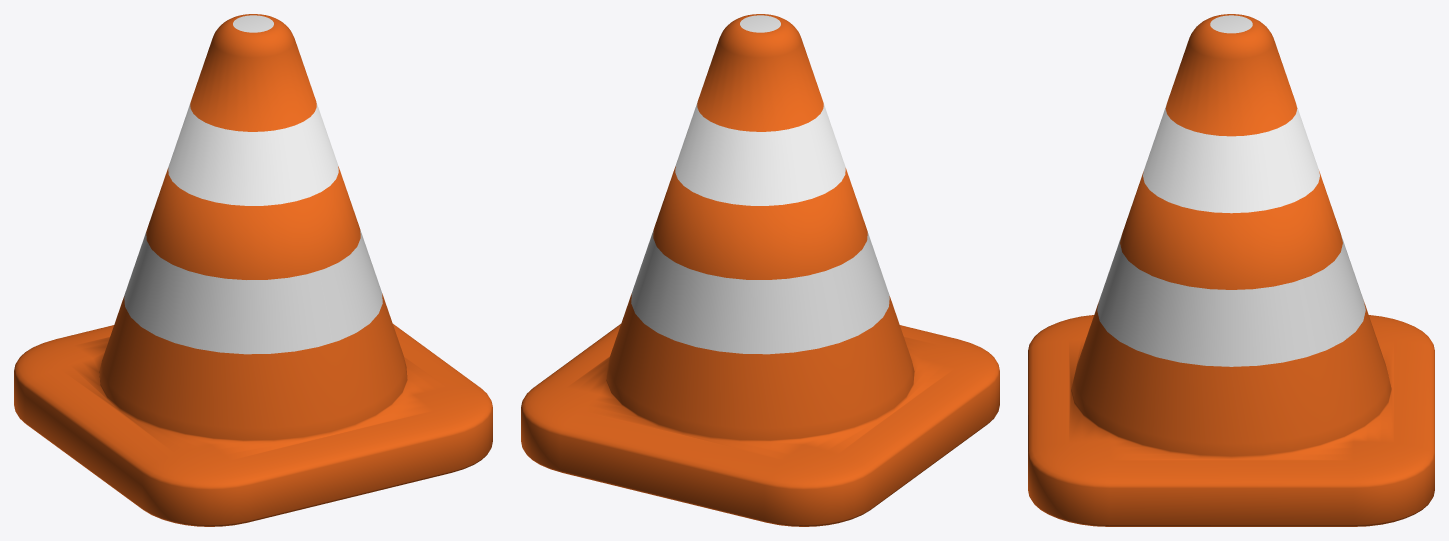
File: traffic_cone.glb
The picture shows the model from 3 angles, left to right: view 1: azimuth 30°, elevation 25°; view 2: azimuth 150°, elevation 25°; view 3: azimuth 270°, elevation 25°; orthographic projection. The views are drawn at different scales.
Visible parts, largest first — view 1: traffic_cone; view 2: traffic_cone; view 3: traffic_cone.
Part boxes in pixels (<box>): traffic_cone: <box>14,14,492,526</box>; traffic_cone: <box>521,14,999,526</box>; traffic_cone: <box>1028,14,1434,526</box>.
Size of the model in its own units: 0.7993 by 0.9249 by 0.7993.
